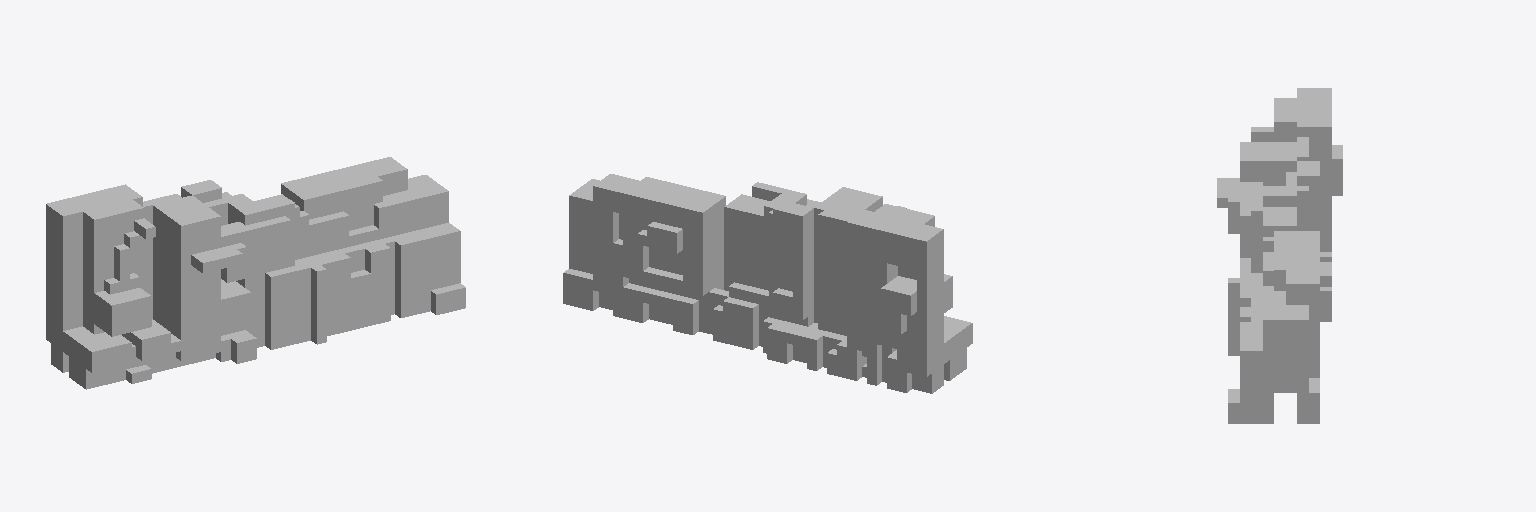
File: Rock.obj
3 views of the same model, side by side, from view 1: azimuth 30°, elevation 25°; view 2: azimuth 150°, elevation 25°; view 3: azimuth 270°, elevation 25° (orthographic).
Parts seen in each view (by area): view 1: Rock; view 2: Rock; view 3: Rock.
Part boxes in pixels (x1,y1,x2,y2): Rock: (46,157,465,389); Rock: (563,174,972,393); Rock: (1217,88,1342,423).
Size of the model in its own units: 37 by 15 by 11.